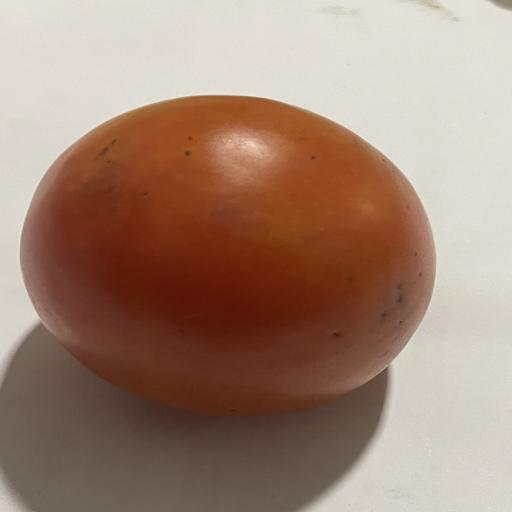ripe: (21, 96, 435, 415)
